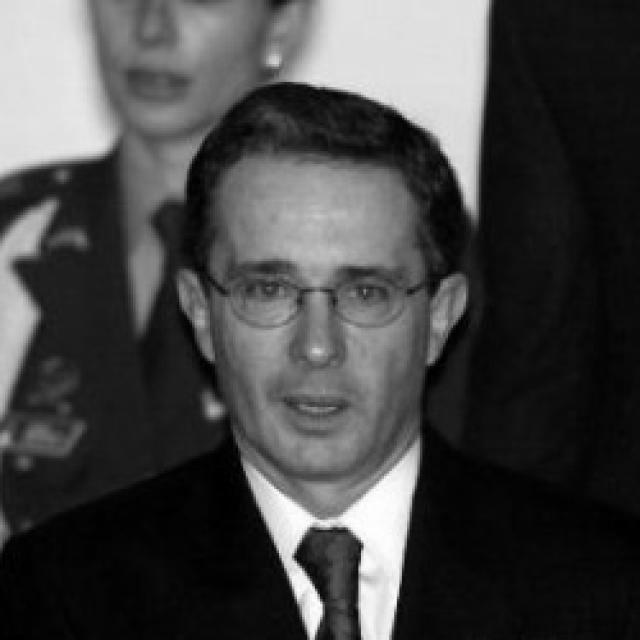real: (205, 147, 434, 485), (235, 263, 399, 329)
